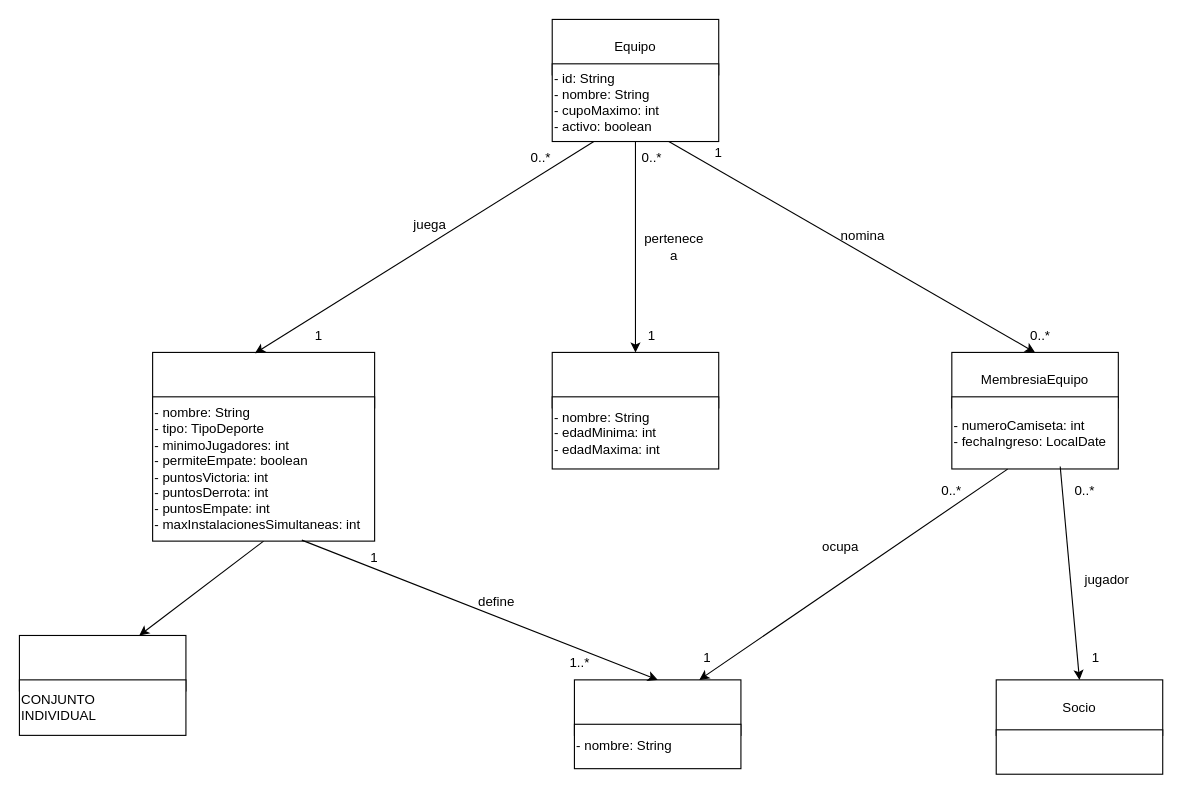
This 1182x794 diagram has some shape labels left out. Here are the shapes that lost their labels. From the top down, the centre of each, then its label:
[263,379]: Deporte
[635,379]: CategoriaEdad
[102,662]: <<enumeration>> TipoDeporte
[657,707]: Posicion
